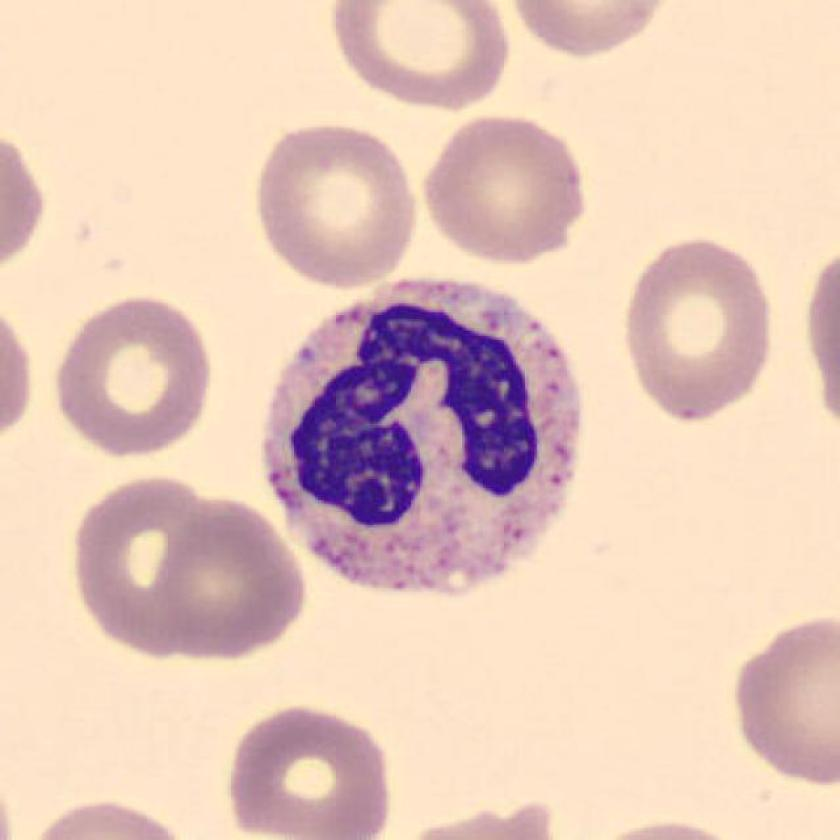neutrophil: (265, 281, 580, 594)
